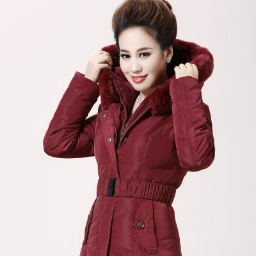face: (105, 1, 179, 97)
